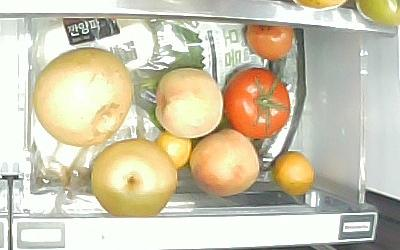peach: (187, 127, 261, 199), (154, 66, 225, 139)
pear: (31, 46, 134, 148), (89, 137, 179, 219)
tangerine: (272, 150, 317, 197), (153, 130, 193, 168)
tomato: (221, 66, 292, 139), (244, 24, 294, 62)
